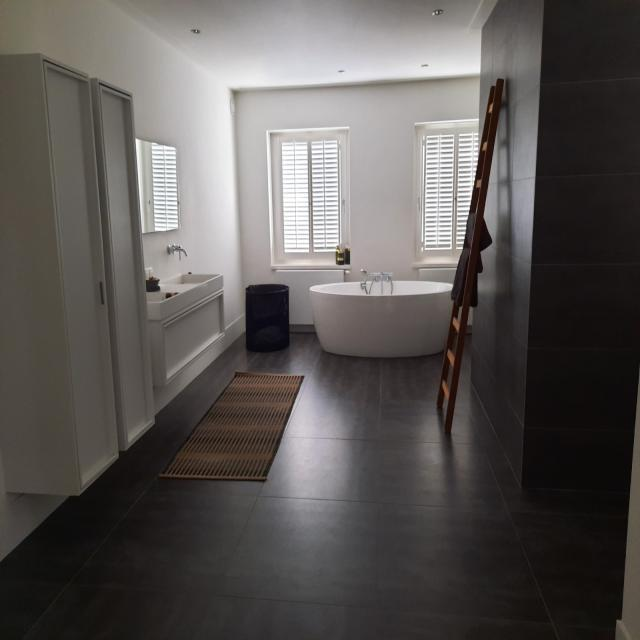bath: (312, 268, 454, 360)
wastafel: (146, 243, 226, 385)
